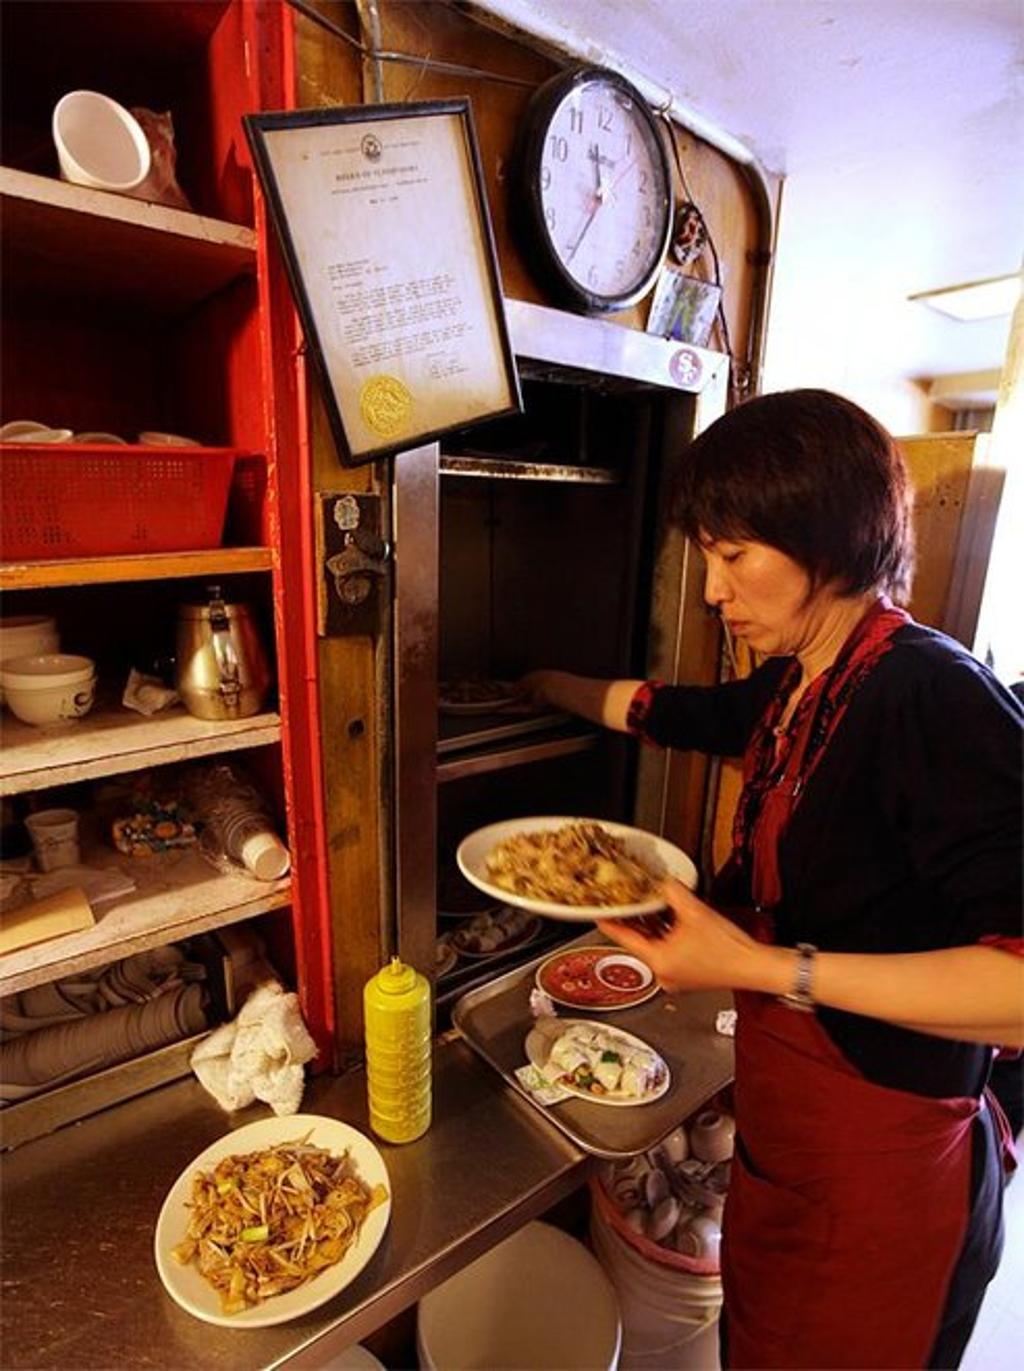face: (689, 515, 826, 657)
